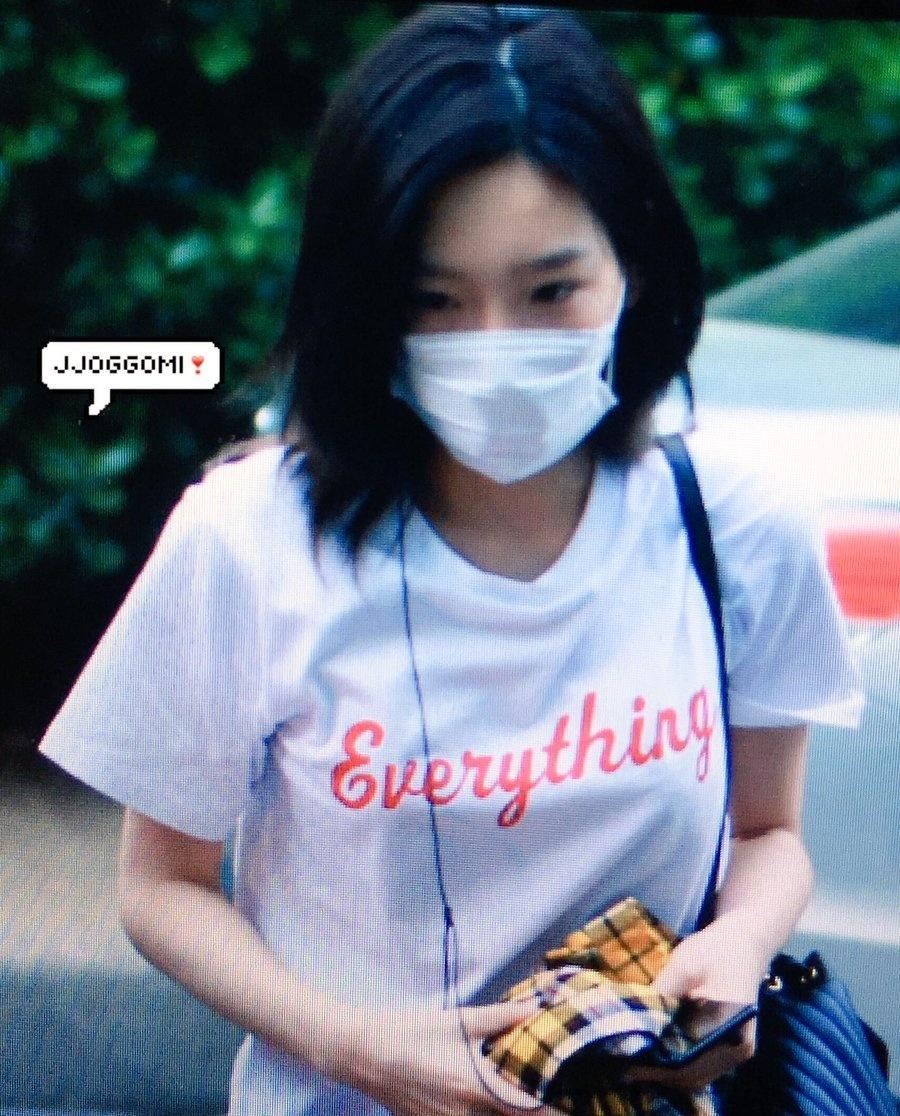OK: (376, 243, 612, 479)
